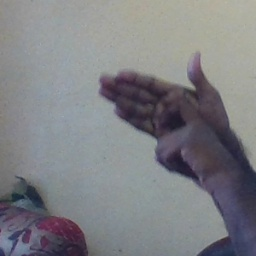R: (80, 48, 234, 186)
